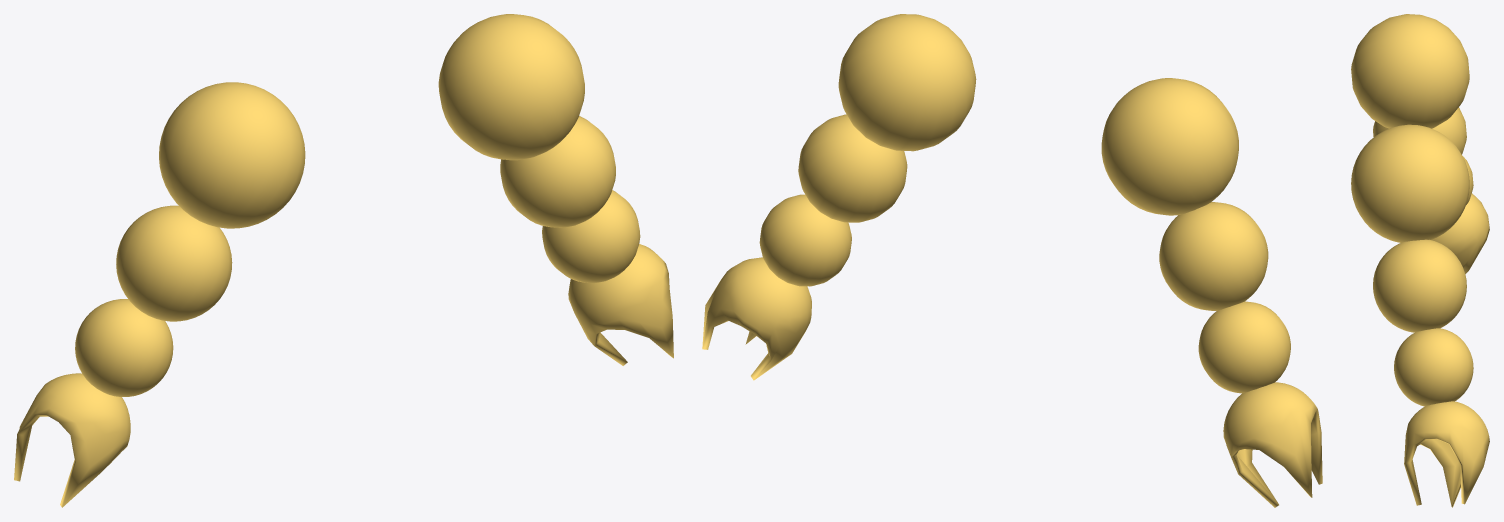
Rendered from Bras 1.fbx.
3 views of the same model, side by side, from view 1: azimuth 30°, elevation 25°; view 2: azimuth 150°, elevation 25°; view 3: azimuth 270°, elevation 25° (orthographic). The views are drawn at different scales.
Visible parts, largest first — view 1: Sphere.003; view 2: Sphere.003; view 3: Sphere.003.
Part boxes in pixels (<box>): Sphere.003: <box>14,14,673,507</box>; Sphere.003: <box>702,14,1322,507</box>; Sphere.003: <box>1351,14,1489,507</box>.
Size of the model in its own units: 491 by 288 by 112.
